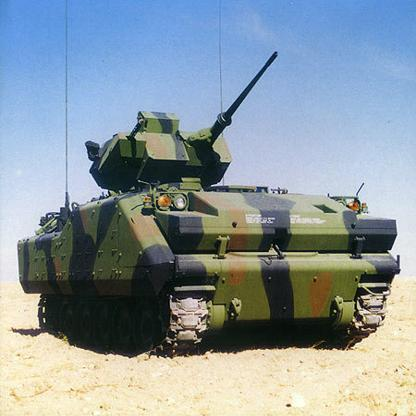Tank: (16, 107, 403, 366)
